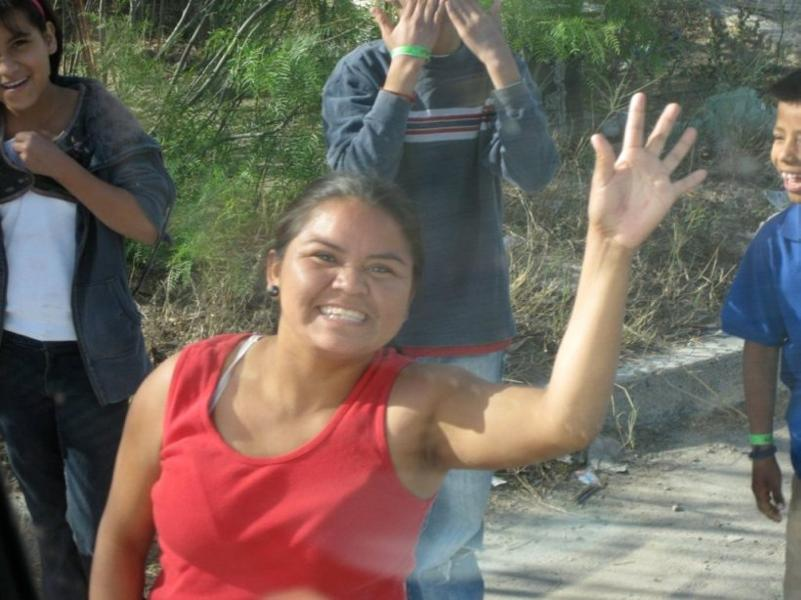person: (99, 95, 707, 600)
